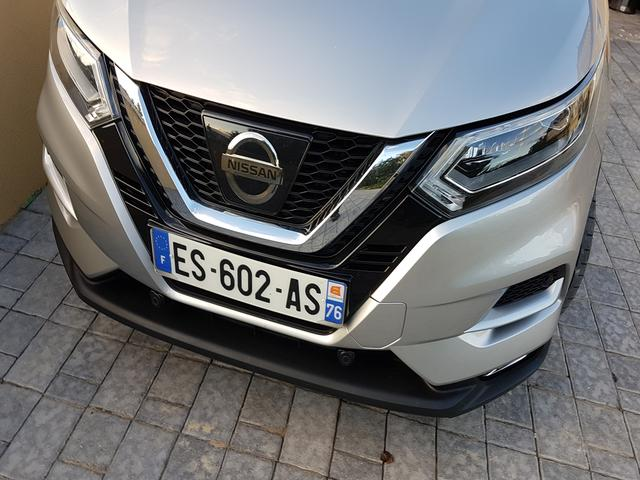Quashquai: (134, 203, 364, 347)
